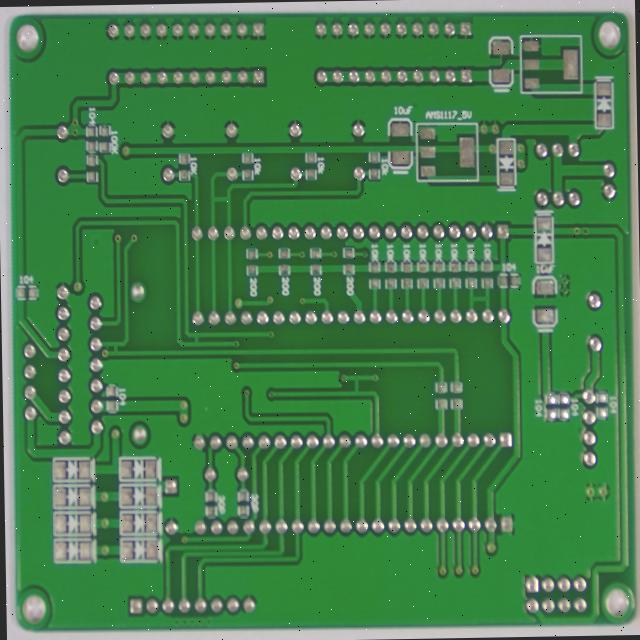short: (343, 364, 363, 394), (200, 179, 228, 200), (463, 283, 489, 298), (182, 322, 197, 343), (101, 331, 116, 351)
